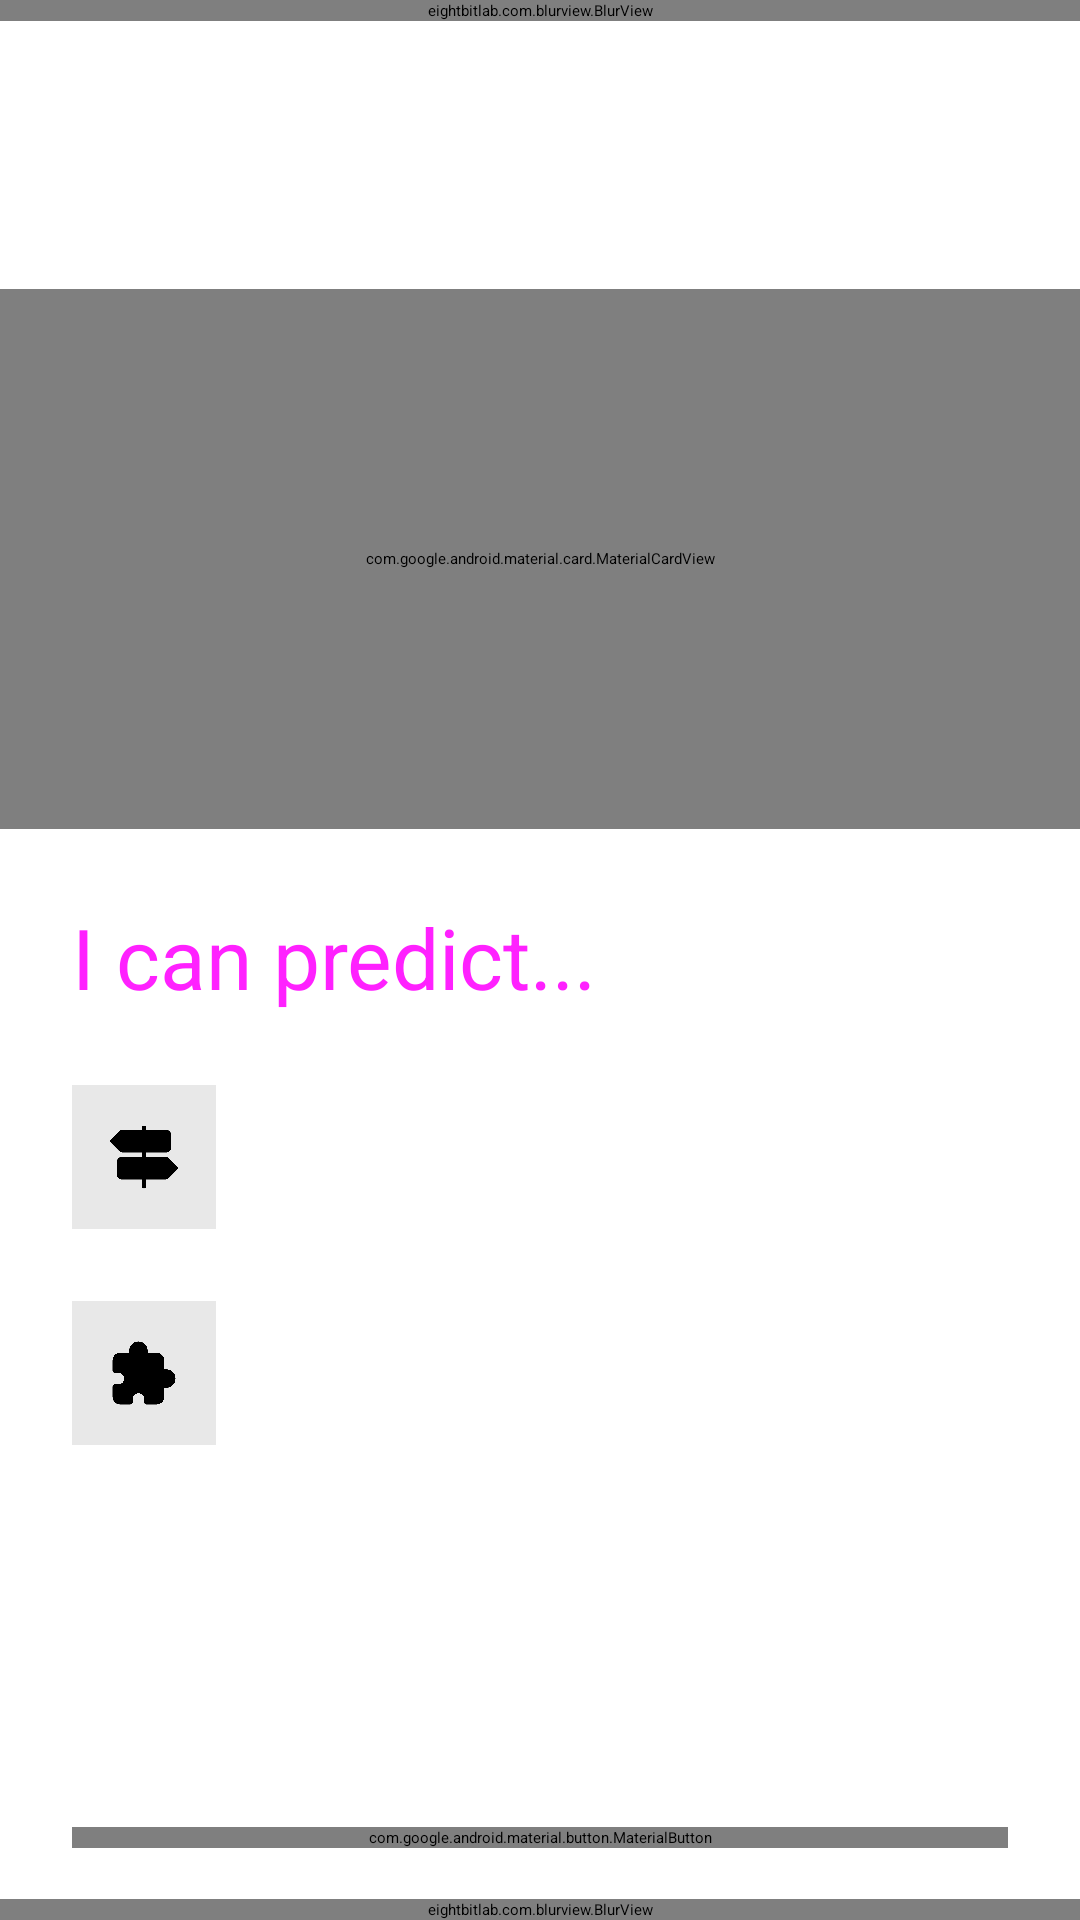

Named icons in this screenshot (1080*1920) and their centers, (x,y):
extension puzzle: (144,1373)
trail sign: (144,1157)
